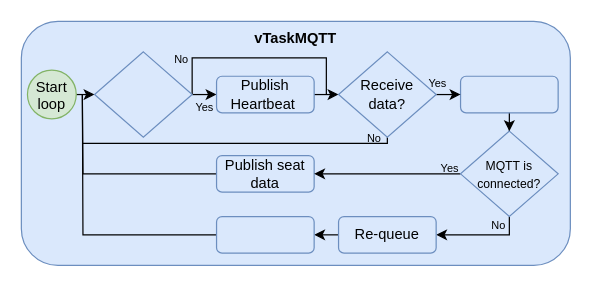
Some shapes in this 592 by 287 pixel diagram are drawn without their labels. The centre of each missing label's shape, as x and y in pixels:
Is it heartbeat time?: [142,94]
Prepare JSON: [508,94]
Wait 500 ms: [264,234]
